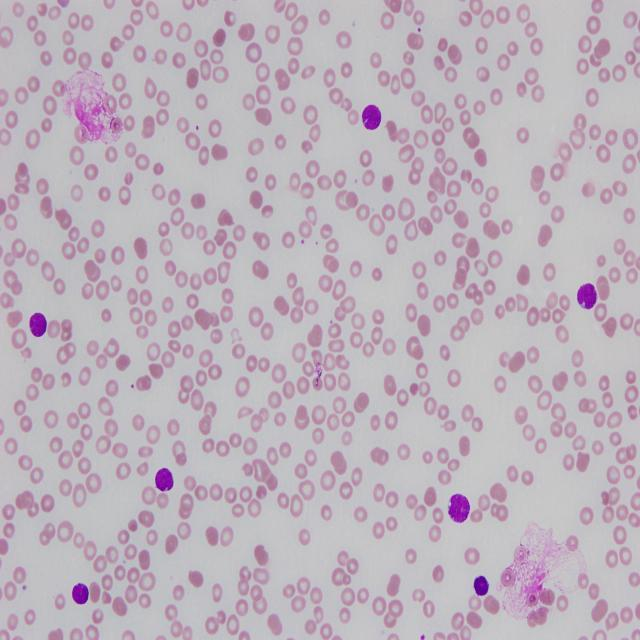cell: (449, 493, 470, 523), (578, 283, 598, 310), (362, 105, 381, 130), (155, 468, 174, 492), (30, 313, 46, 337), (72, 583, 89, 605), (474, 575, 489, 595)
